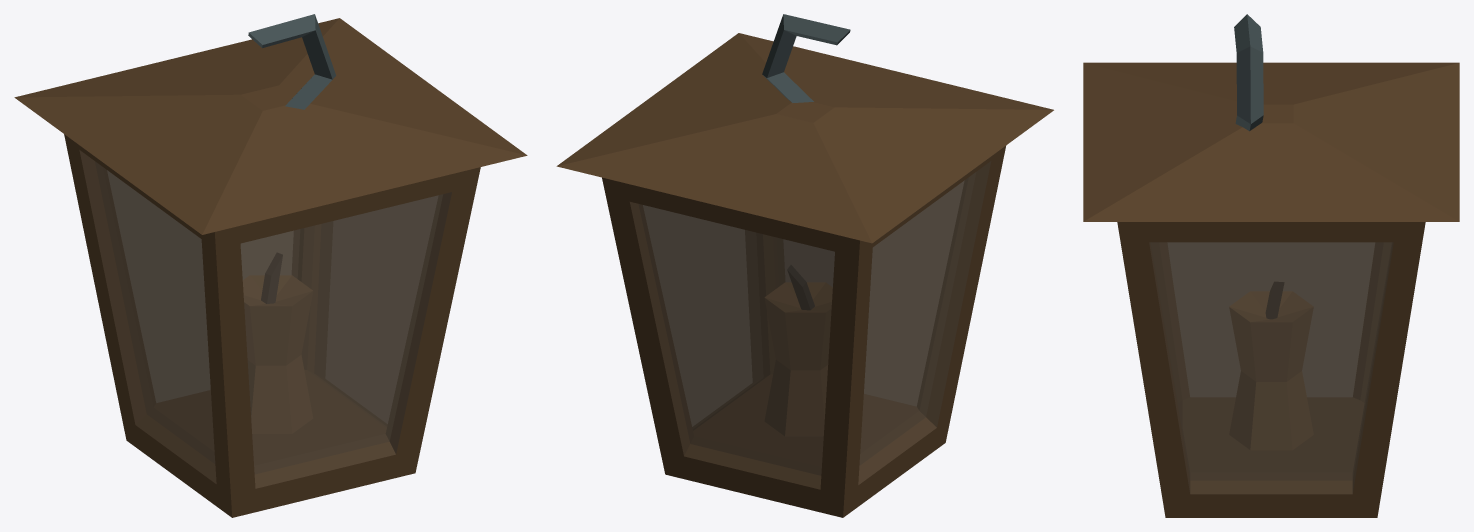
File: Lamp_2_Brown.fbx
3 renders of one model, left to right at view 1: azimuth 30°, elevation 25°; view 2: azimuth 150°, elevation 25°; view 3: azimuth 270°, elevation 25°, orthographic. The views are drawn at different scales.
Visible parts, largest first — view 1: Lamp_2_Brown_Part_1, Lamp_2_Brown_Part_2, Lamp_2_Brown_Part_3, Lamp_2_Brown_Part_5, Lamp_2_Brown_Part_4; view 2: Lamp_2_Brown_Part_1, Lamp_2_Brown_Part_2, Lamp_2_Brown_Part_3, Lamp_2_Brown_Part_5, Lamp_2_Brown_Part_4; view 3: Lamp_2_Brown_Part_1, Lamp_2_Brown_Part_2, Lamp_2_Brown_Part_3, Lamp_2_Brown_Part_5, Lamp_2_Brown_Part_4.
Part boxes in pixels (x1,y1,x2,y2): Lamp_2_Brown_Part_1: (14, 18, 527, 517); Lamp_2_Brown_Part_2: (79, 150, 451, 488); Lamp_2_Brown_Part_3: (243, 275, 312, 433); Lamp_2_Brown_Part_5: (248, 14, 336, 109); Lamp_2_Brown_Part_4: (261, 253, 282, 303); Lamp_2_Brown_Part_1: (556, 33, 1053, 517); Lamp_2_Brown_Part_2: (630, 161, 991, 489); Lamp_2_Brown_Part_3: (765, 282, 832, 436); Lamp_2_Brown_Part_5: (762, 14, 850, 102); Lamp_2_Brown_Part_4: (787, 265, 814, 309); Lamp_2_Brown_Part_1: (1083, 62, 1459, 517); Lamp_2_Brown_Part_2: (1149, 242, 1393, 494); Lamp_2_Brown_Part_3: (1229, 291, 1313, 449); Lamp_2_Brown_Part_5: (1234, 14, 1263, 131); Lamp_2_Brown_Part_4: (1266, 282, 1283, 318).
Size of the model in its own units: 53.31 by 69.23 by 53.31.
